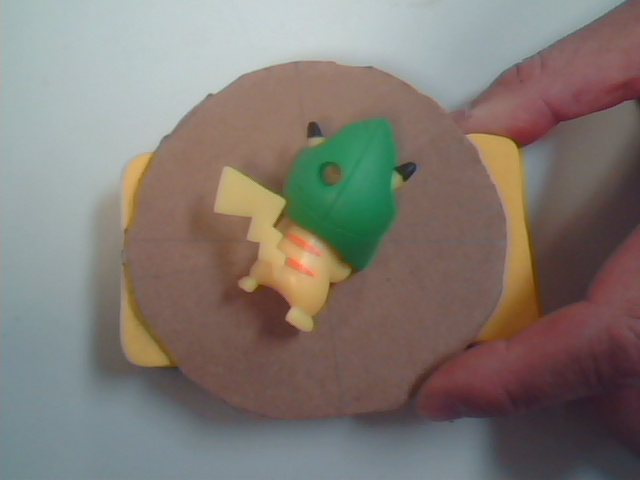pikachu: (199, 98, 452, 351)
